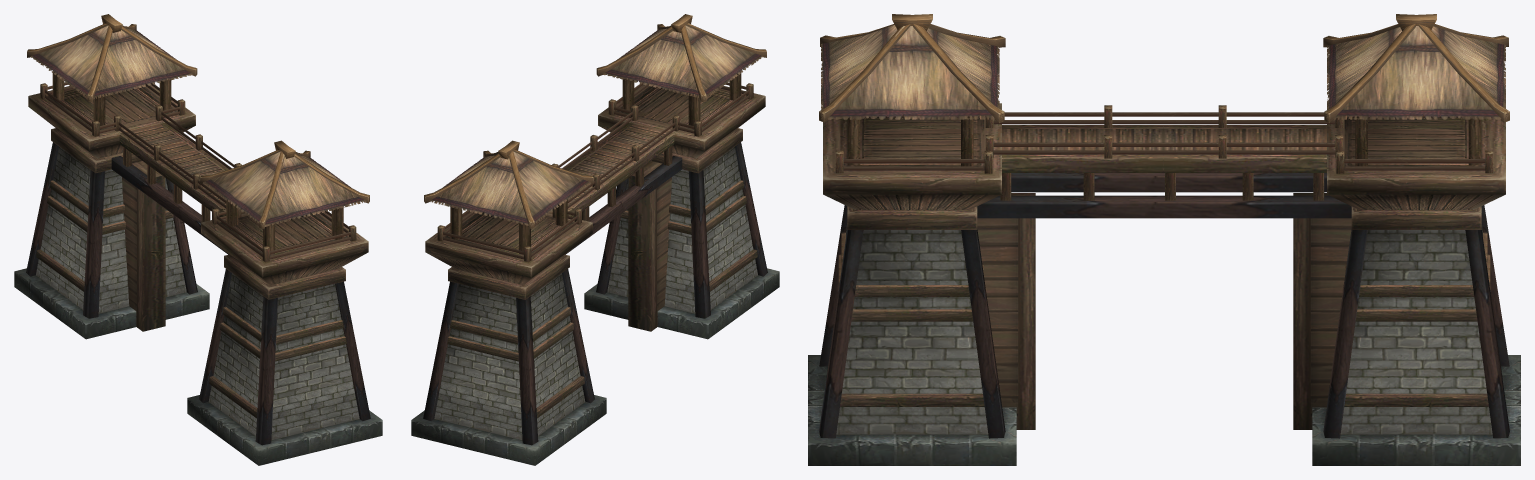
File: Barrack_Buidling_1.FBX
3 views of the same model, side by side, from view 1: azimuth 30°, elevation 25°; view 2: azimuth 150°, elevation 25°; view 3: azimuth 270°, elevation 25° (orthographic). The views are drawn at different scales.
Visible parts, largest first — view 1: Barrack_Buidling_1; view 2: Barrack_Buidling_1; view 3: Barrack_Buidling_1.
Boxes of the visible parts, <box> form: Barrack_Buidling_1: <box>14,14,382,465</box>; Barrack_Buidling_1: <box>411,14,779,465</box>; Barrack_Buidling_1: <box>808,14,1520,465</box>.
Size of the model in its own units: 844 by 1810 by 2885.
